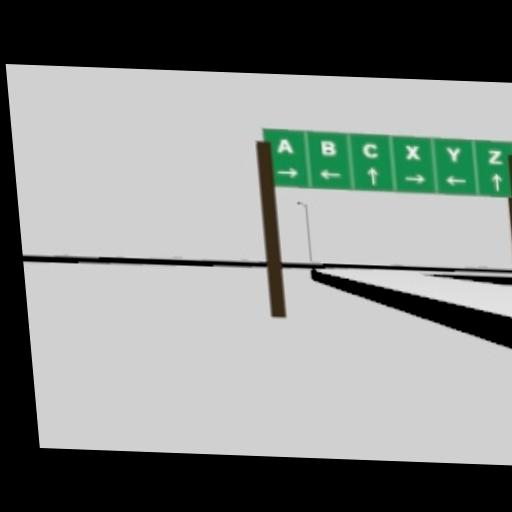A: (276, 139, 295, 155)
B: (318, 140, 338, 157)
C: (360, 142, 381, 161)
Left: (318, 169, 342, 181), (443, 174, 467, 186)
Right: (276, 167, 299, 180), (404, 173, 428, 185)
Straight: (366, 167, 379, 187), (492, 173, 503, 193)
X: (405, 145, 421, 161)
Y: (446, 146, 461, 163)
Z: (488, 149, 505, 167)
